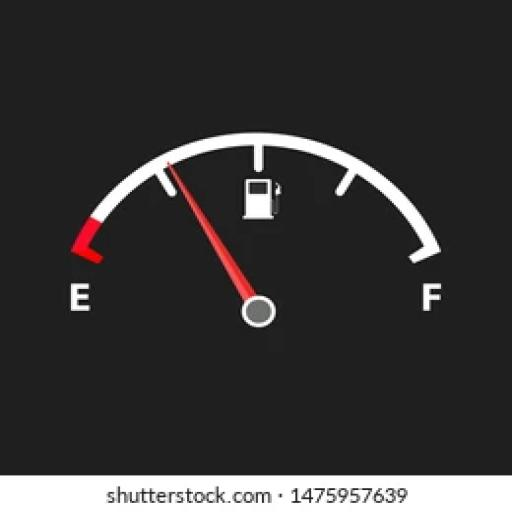empty: (65, 277, 97, 319)
fuel_icon: (236, 173, 289, 225)
full: (412, 274, 445, 316)
guage_area: (58, 126, 455, 346), (162, 156, 194, 204)
needle_center: (236, 286, 282, 336)
